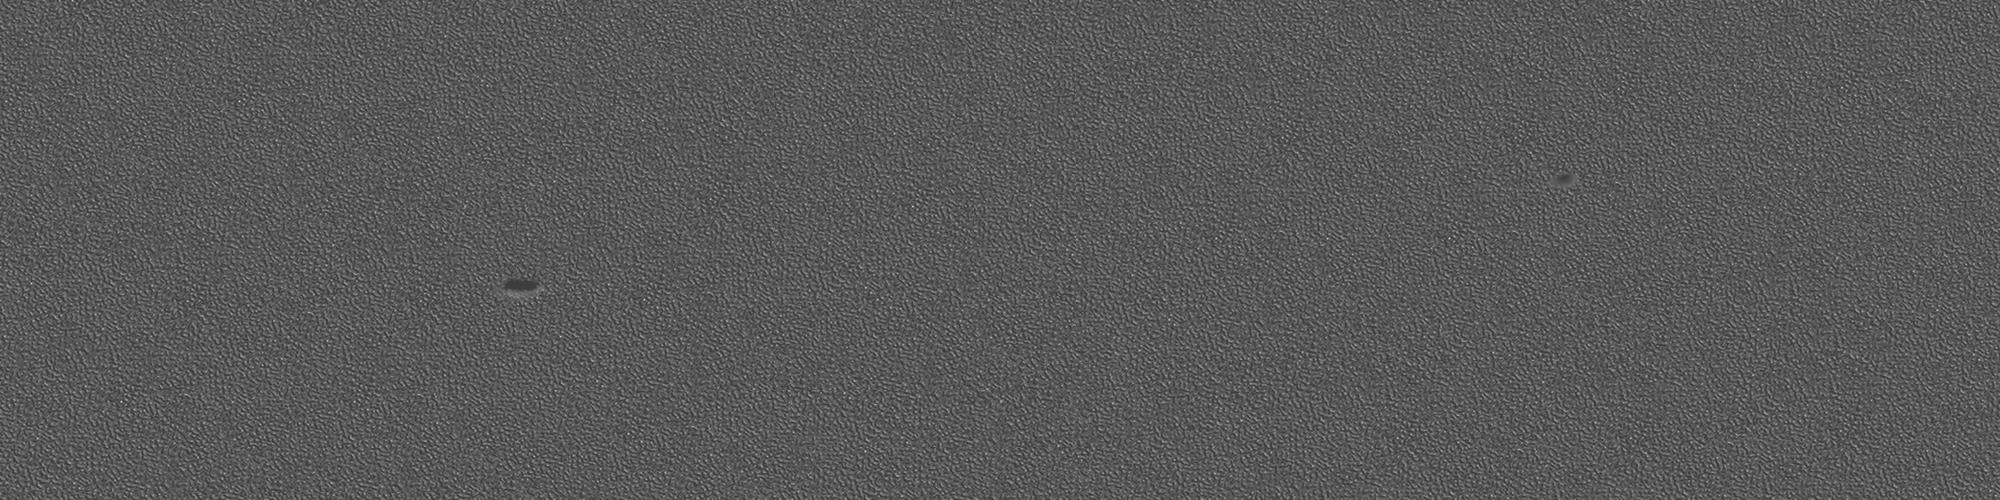Decomposed: (496, 276, 554, 307), (1540, 166, 1582, 193)
